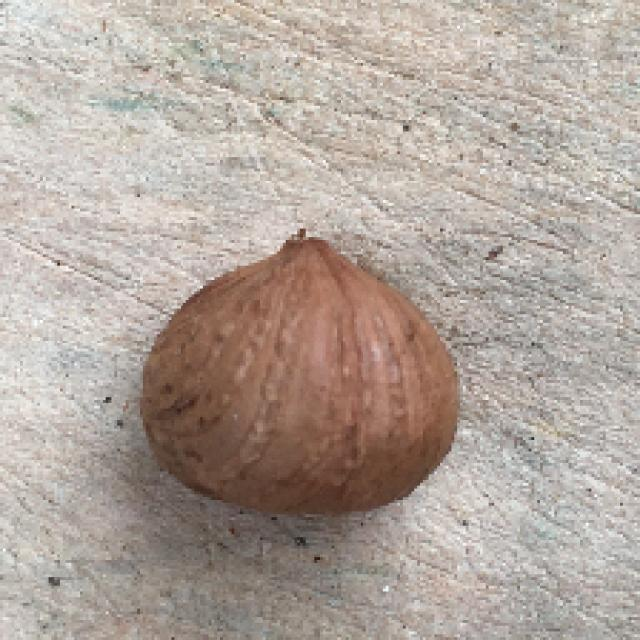hazelnut: (125, 233, 469, 524)
